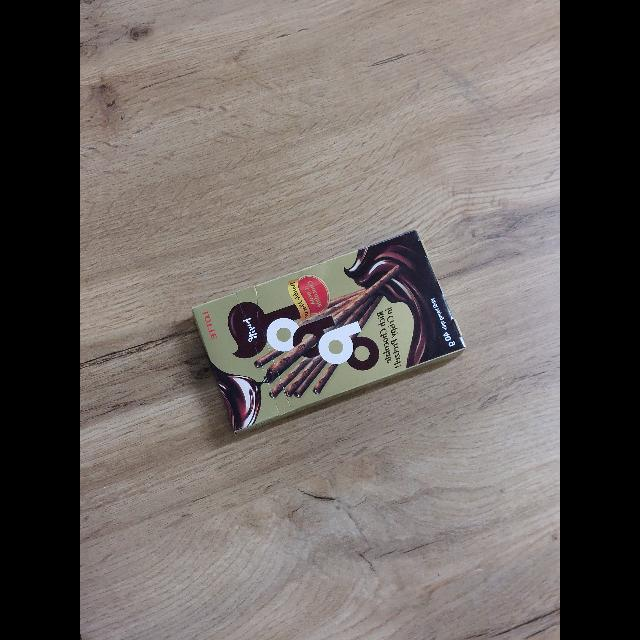banh_toppo_socola: (193, 231, 465, 433)
